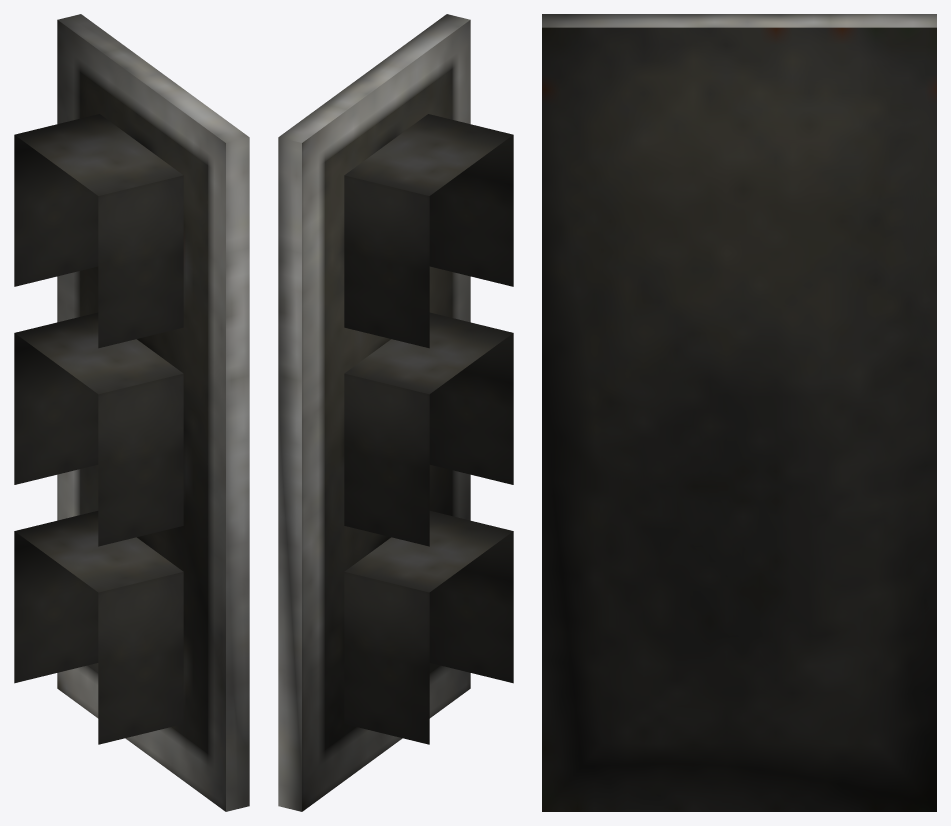
The model's file is trafficlight2.fbx.
3 views of the same model, side by side, from view 1: azimuth 30°, elevation 25°; view 2: azimuth 150°, elevation 25°; view 3: azimuth 270°, elevation 25° (orthographic). The views are drawn at different scales.
Parts seen in each view (by area): view 1: trafficlight2; view 2: trafficlight2; view 3: trafficlight2.
Part boxes in pixels (box(x1,y1,x2,y2)): trafficlight2: box(14, 14, 249, 811); trafficlight2: box(278, 14, 513, 811); trafficlight2: box(542, 14, 936, 811).
Size of the model in its own units: 31 by 61.6 by 135.
Materials: 1 (1 with a texture image).
